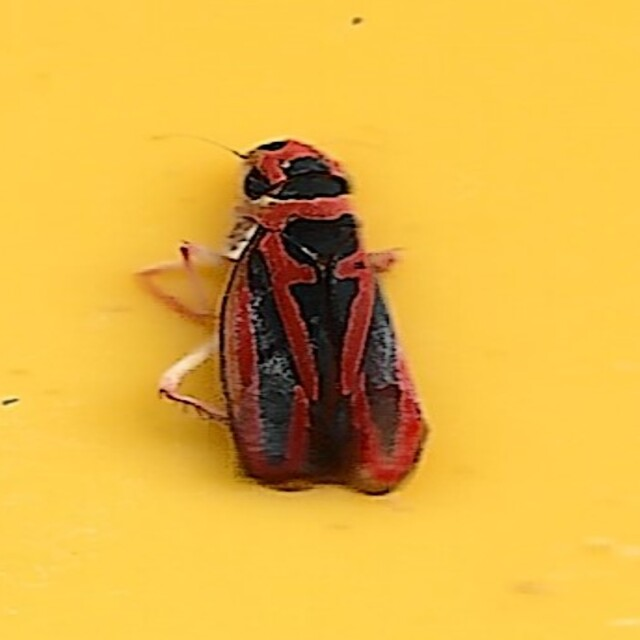Hemiptera: (186, 133, 454, 507)
